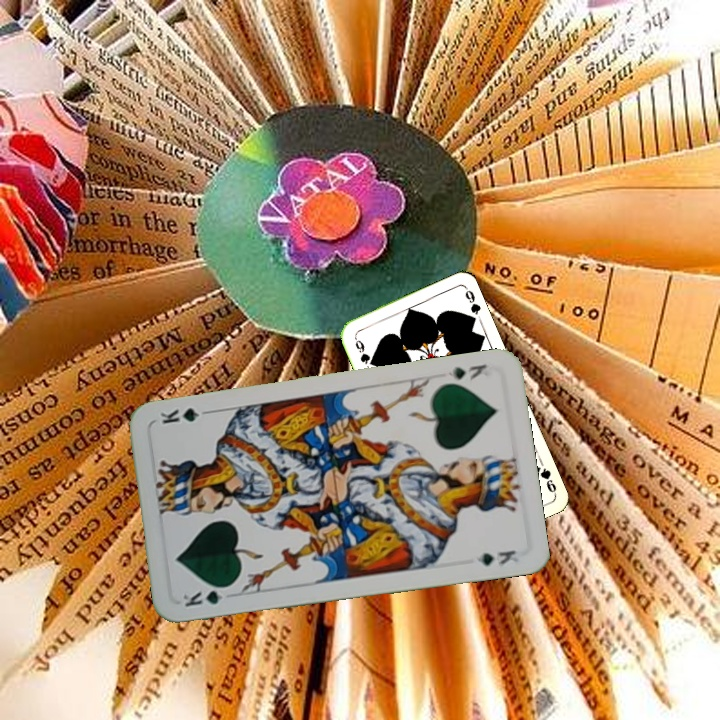G9: (530, 461, 559, 496), (350, 332, 376, 368)
GK: (179, 582, 235, 610), (444, 360, 490, 383)
